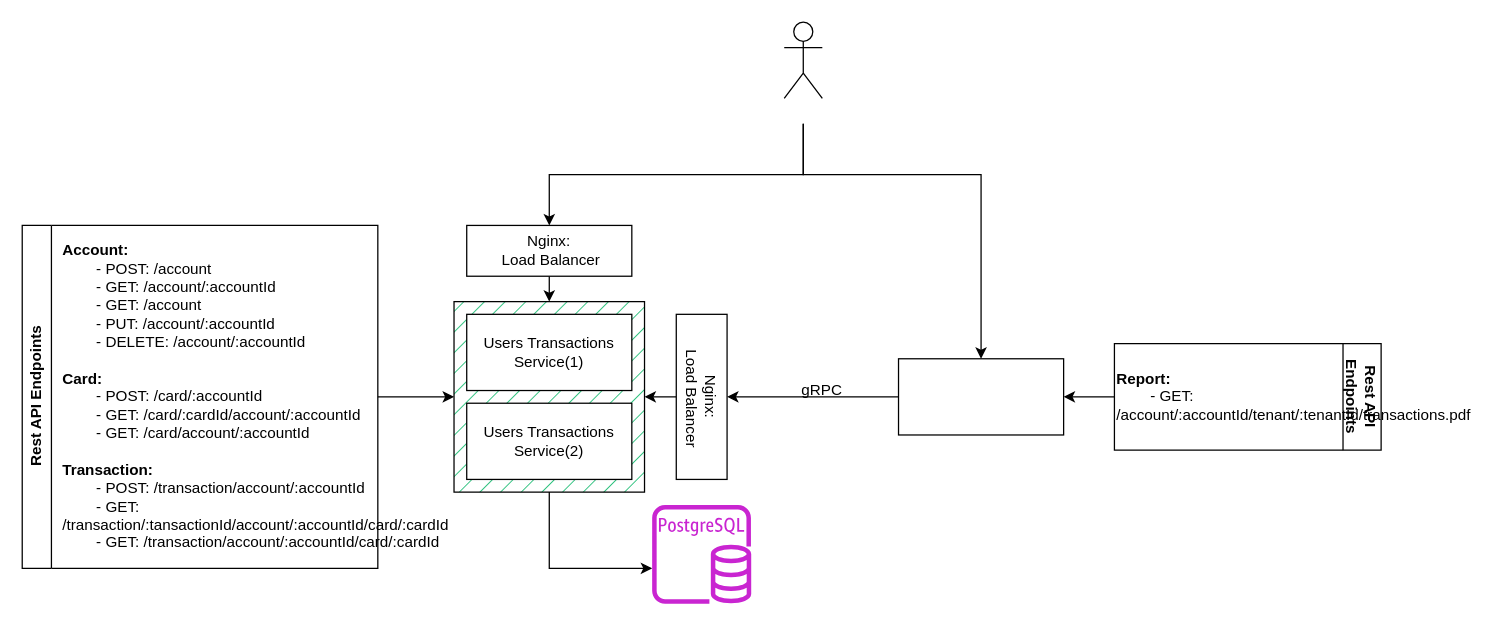
This 1494x629 diagram has some shape labels left out. The box of each missing label's shape, as (x1, y1, x2, y2) in pixels:
User: (783, 21, 822, 98)
Users Transactions Report Service: (897, 358, 1064, 435)
